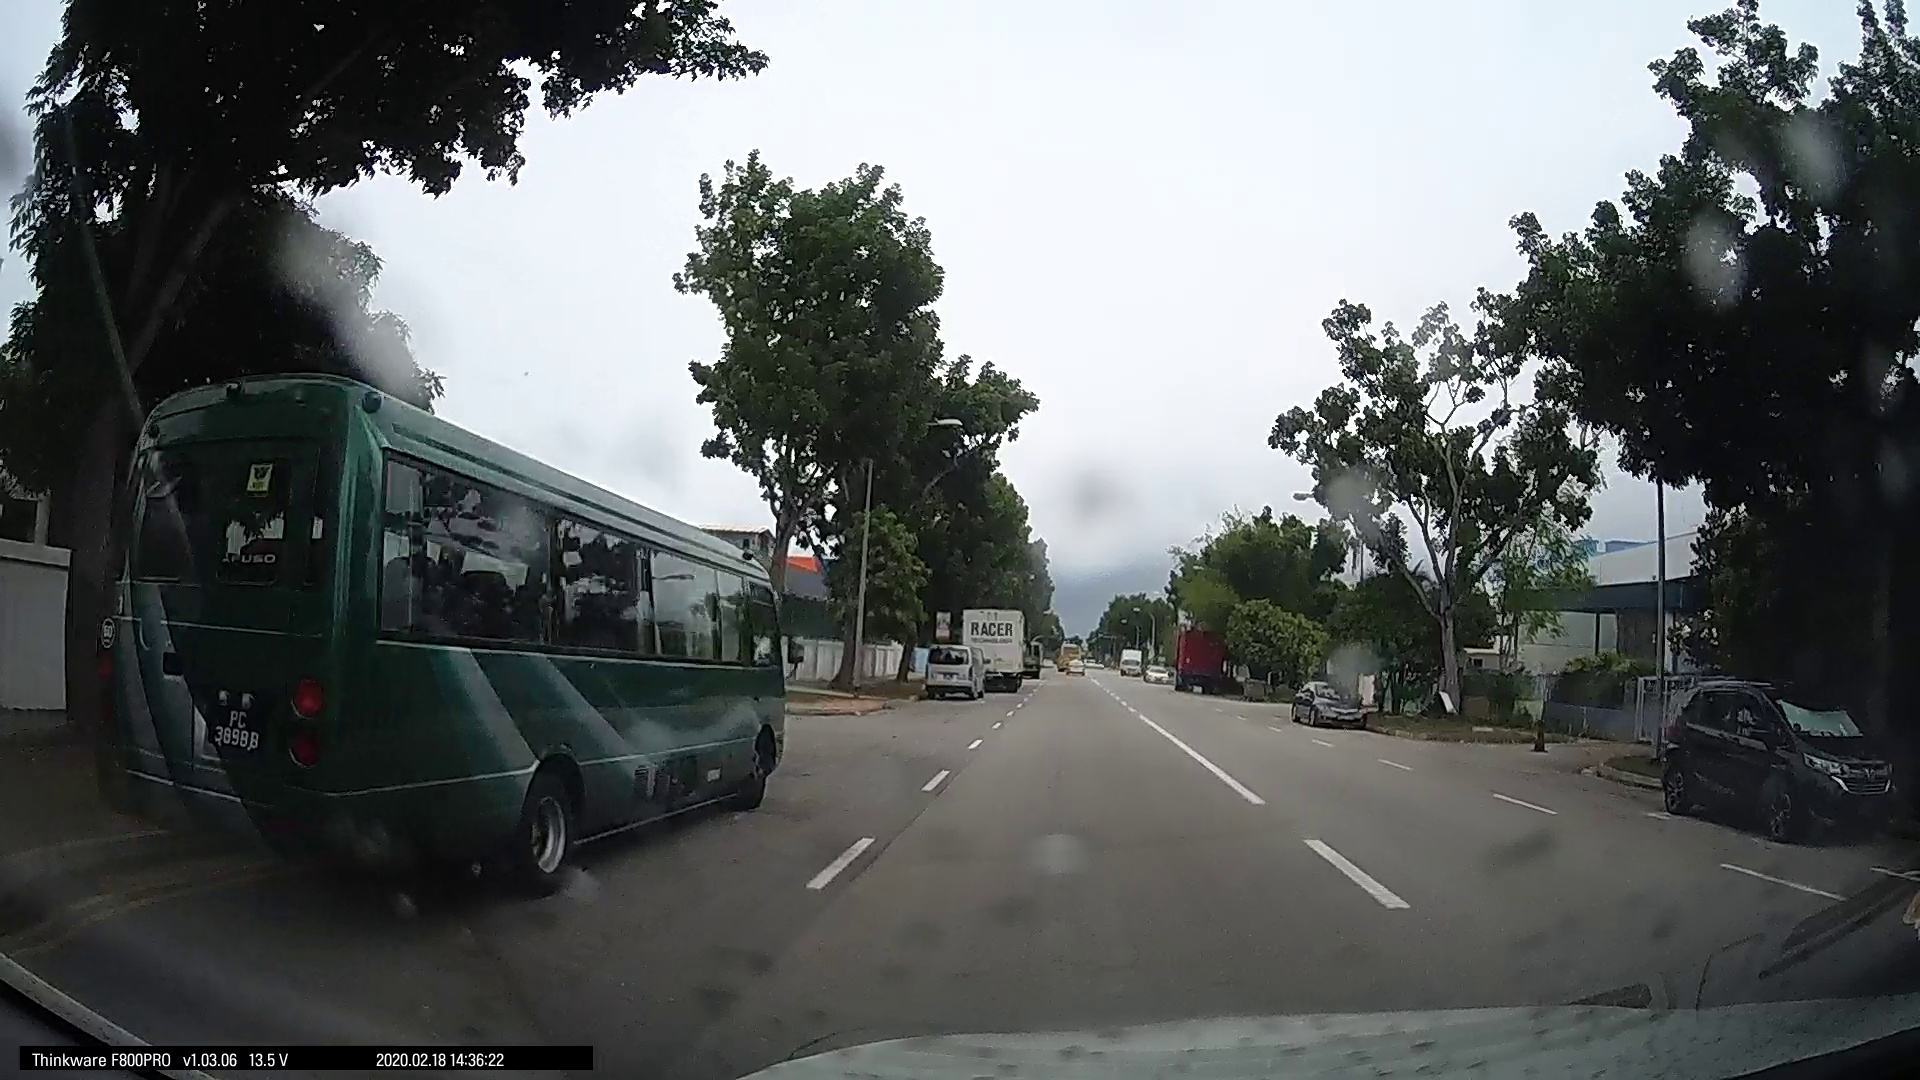Heavy Vehicle: (1179, 535, 1549, 862)
Light Vehicle: (1565, 653, 1785, 769), (253, 599, 444, 696), (1793, 686, 1915, 762), (1, 545, 88, 636)
